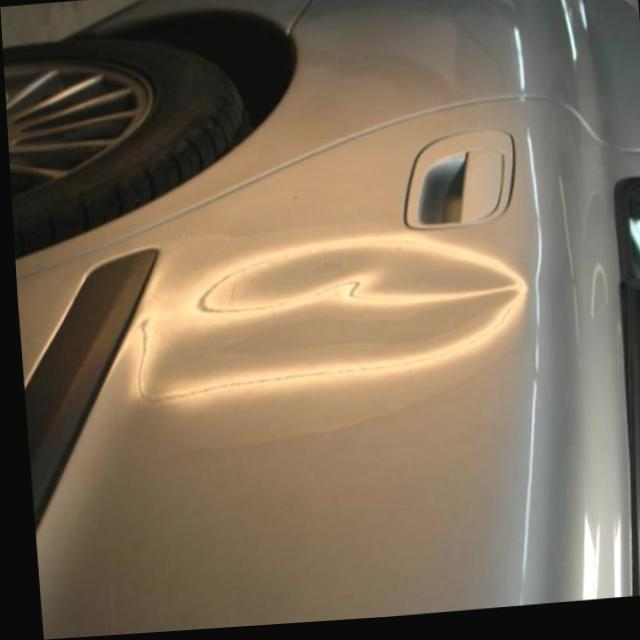PDR-Dent: (155, 220, 529, 391)
